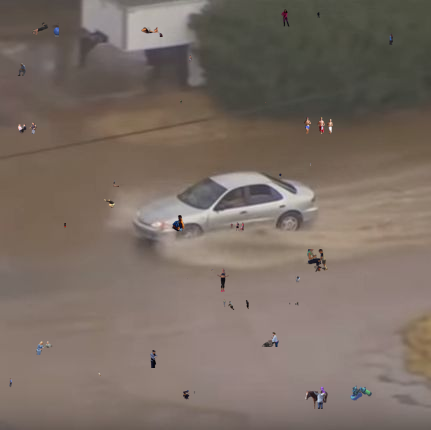Human: (305, 386, 328, 409), (306, 249, 328, 272), (304, 117, 333, 134), (350, 385, 379, 402), (32, 20, 59, 38), (18, 118, 47, 134), (172, 215, 190, 237), (217, 268, 229, 292), (261, 332, 279, 347), (36, 341, 54, 355), (141, 27, 163, 37), (227, 300, 249, 310), (183, 390, 200, 400), (281, 9, 290, 27), (150, 350, 158, 368), (230, 222, 244, 232), (17, 63, 26, 76), (104, 199, 115, 208), (289, 301, 299, 307), (389, 33, 393, 45), (113, 179, 119, 187), (295, 276, 300, 284), (9, 378, 12, 388), (223, 299, 226, 307), (189, 55, 192, 63), (317, 12, 320, 18), (279, 173, 282, 179), (98, 371, 101, 376), (64, 223, 66, 229), (180, 99, 182, 104), (211, 269, 214, 271), (310, 163, 311, 166), (187, 278, 188, 280), (265, 102, 267, 103), (350, 20, 351, 21)
